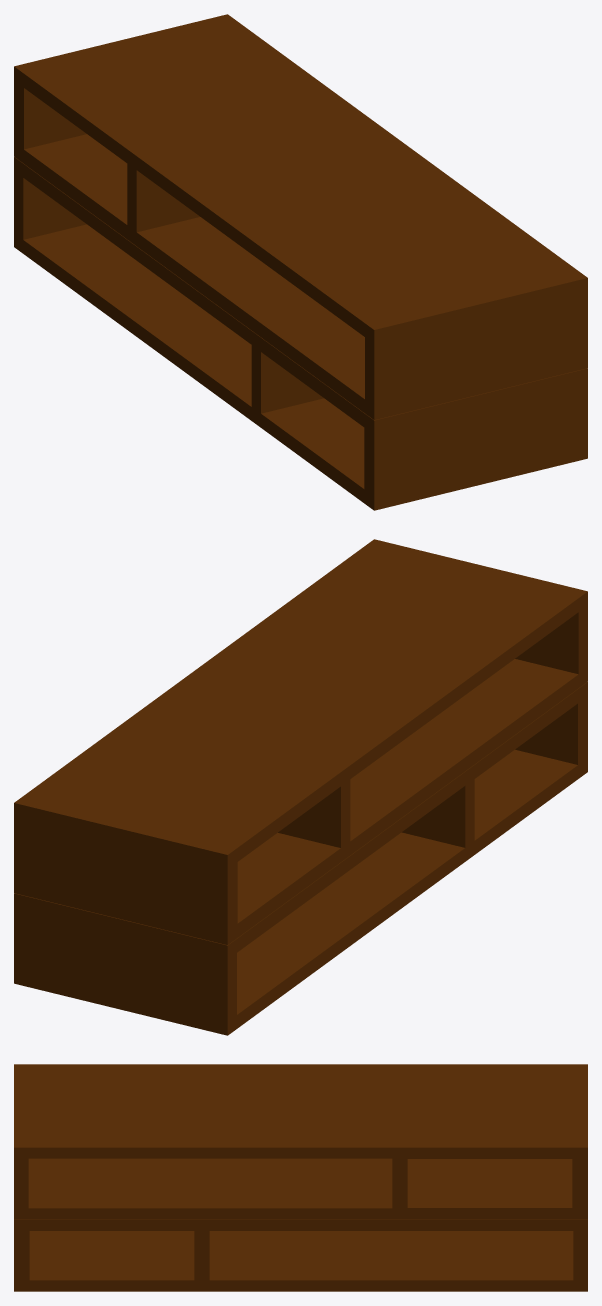
File: mueble del cuarto (1).fbx
The picture shows the model from 3 angles, top to bottom: view 1: azimuth 30°, elevation 25°; view 2: azimuth 150°, elevation 25°; view 3: azimuth 270°, elevation 25°; orthographic projection. The views are drawn at different scales.
Visible parts, largest first — view 1: Cube.003, Cube.002; view 2: Cube.003, Cube.002; view 3: Cube.003, Cube.002.
Boxes of the visible parts, bbox=[...] form: Cube.003: bbox=[14, 14, 587, 419]; Cube.002: bbox=[14, 157, 587, 510]; Cube.003: bbox=[14, 539, 587, 944]; Cube.002: bbox=[14, 682, 587, 1035]; Cube.003: bbox=[14, 1064, 587, 1219]; Cube.002: bbox=[14, 1219, 587, 1291].
Bounding box in the file's own units: 200 × 162 × 584.
